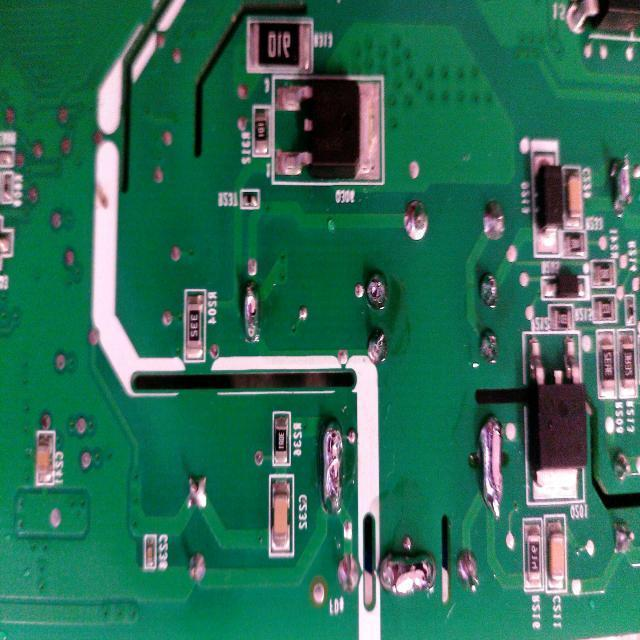Soldering bridge: (376, 540, 438, 597), (318, 416, 346, 520), (604, 144, 638, 216), (240, 280, 262, 350)
